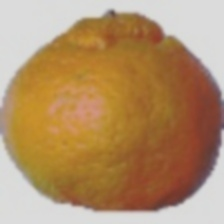tangerine: (30, 51, 209, 198)
